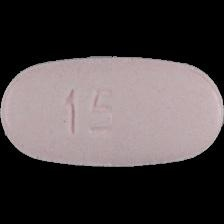68788-2518: (0, 0, 224, 224)
